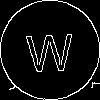W: (25, 25, 74, 72)
